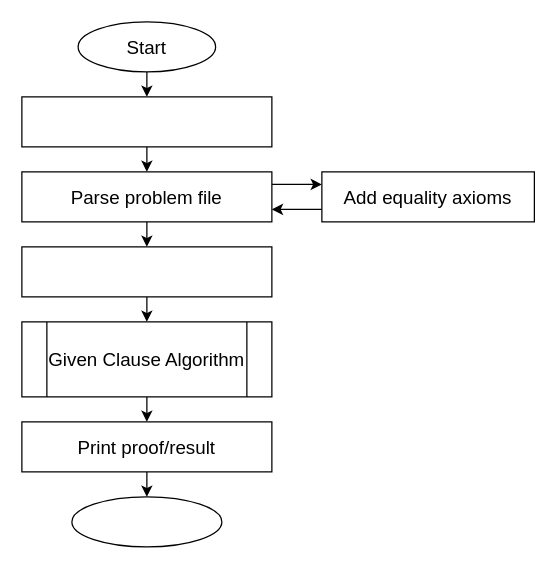
Image size: 556x569. Some labels were removed from this diagram. Each missing label, with the box of its shape:
Clausify: (21, 246, 272, 297)
End: (71, 496, 222, 547)
Process command line options: (21, 96, 272, 147)
